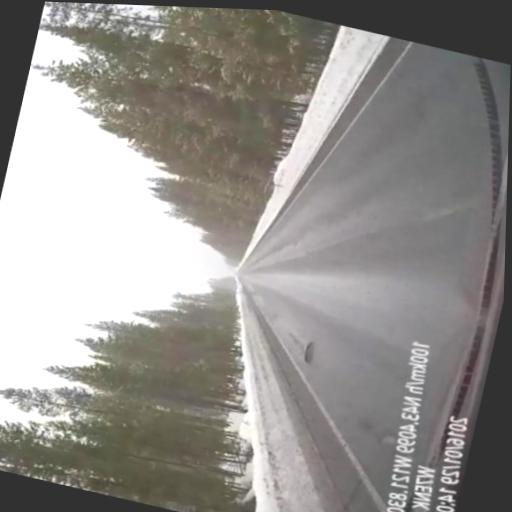pothole: (303, 340, 315, 364)
